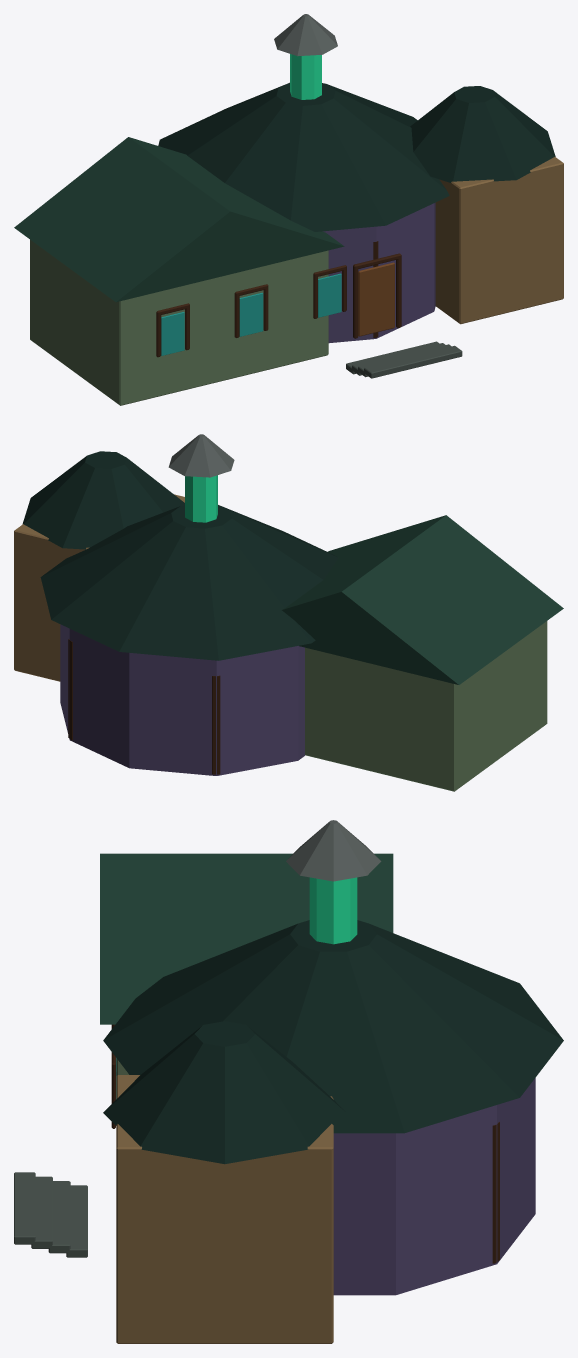
Rendered from LumenArchiveLodgeV2.glb.
3 views of the same model, one above another, from view 1: azimuth 30°, elevation 25°; view 2: azimuth 150°, elevation 25°; view 3: azimuth 270°, elevation 25° (orthographic). The views are drawn at different scales.
Visible parts, largest first — view 1: LumenArchiveLodgeV2; view 2: LumenArchiveLodgeV2; view 3: LumenArchiveLodgeV2.
Boxes of the visible parts, box(x1,y1,x2,y2) form: LumenArchiveLodgeV2: box(14, 14, 563, 405); LumenArchiveLodgeV2: box(14, 434, 563, 791); LumenArchiveLodgeV2: box(14, 820, 563, 1343).
Size of the model in its own units: 36.35 by 20.5 by 25.3.
1 material, 1 textured.
